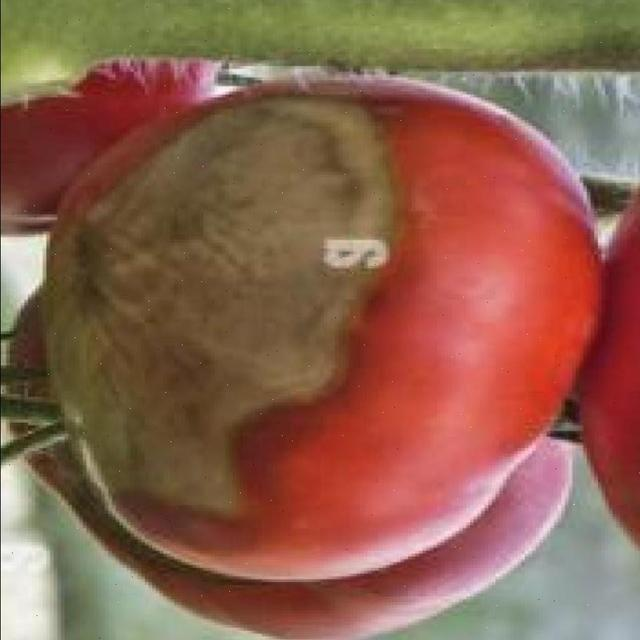Blossom End Rot Fruit: (36, 67, 280, 350)
